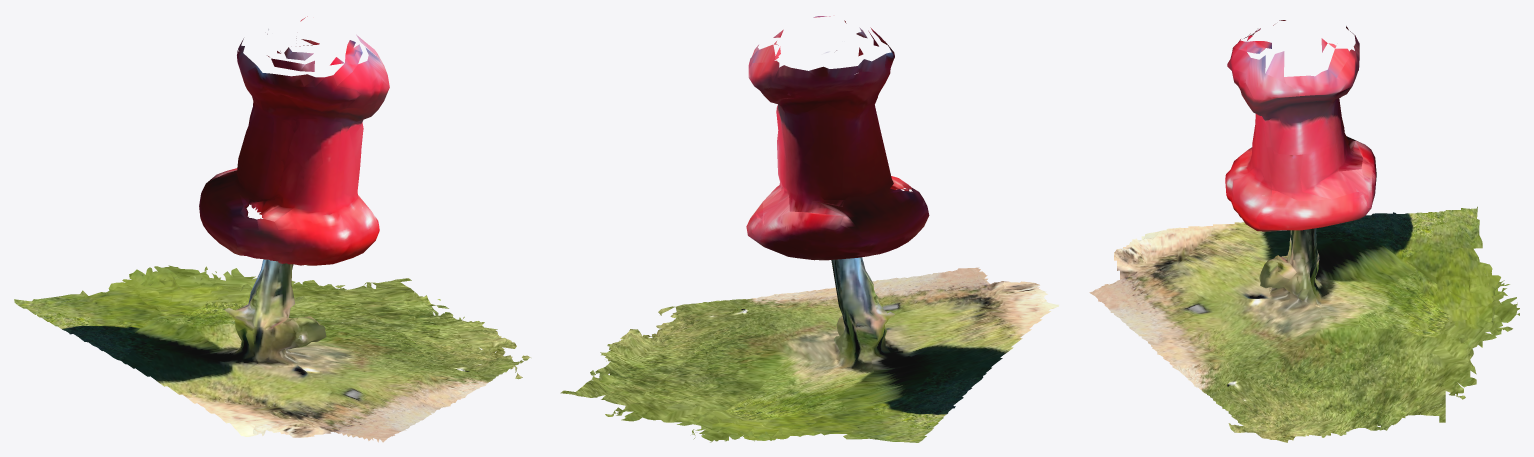
Rendered from pin.glb.
3 renders of one model, left to right at view 1: azimuth 30°, elevation 25°; view 2: azimuth 150°, elevation 25°; view 3: azimuth 270°, elevation 25°, orthographic. The views are drawn at different scales.
Bounding box in the file's own units: 6.65 × 5.92 × 6.95.
Materials: 1 (1 with a texture image).
